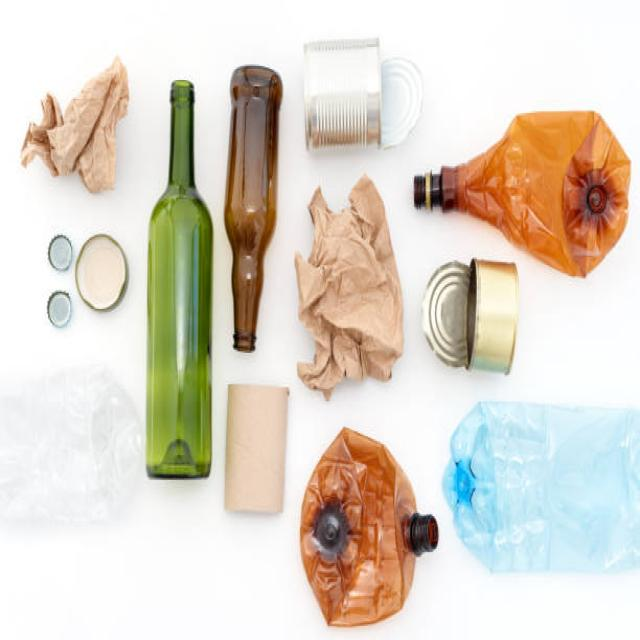cardboard: (224, 377, 291, 530)
glass: (142, 64, 214, 485), (224, 64, 280, 358)
metal: (299, 35, 418, 149), (45, 237, 133, 342)
paper: (299, 190, 407, 381), (15, 52, 132, 196)
plastic: (439, 396, 640, 580), (300, 408, 436, 616), (414, 135, 627, 265)
